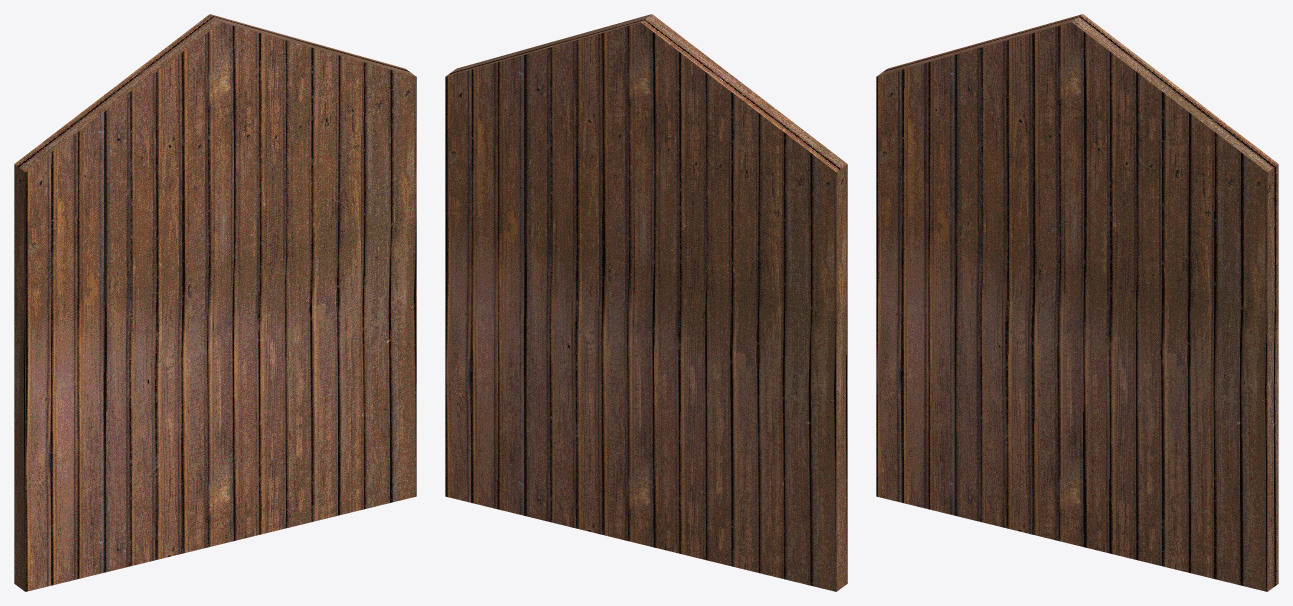
Rendered from wall-int-topfiller-1.glb.
3 renders of one model, left to right at view 1: azimuth 30°, elevation 25°; view 2: azimuth 150°, elevation 25°; view 3: azimuth 330°, elevation 25°, orthographic.
Parts seen in each view (by area): view 1: wall-int-topfiller-1.001; view 2: wall-int-topfiller-1.001; view 3: wall-int-topfiller-1.001.
Boxes of the visible parts, x1,y1,x2,y2 form: wall-int-topfiller-1.001: (14, 14, 416, 591); wall-int-topfiller-1.001: (445, 14, 847, 591); wall-int-topfiller-1.001: (876, 14, 1278, 591).
Size of the model in its own units: 2 by 2.55 by 0.1.
1 material, 1 textured.
